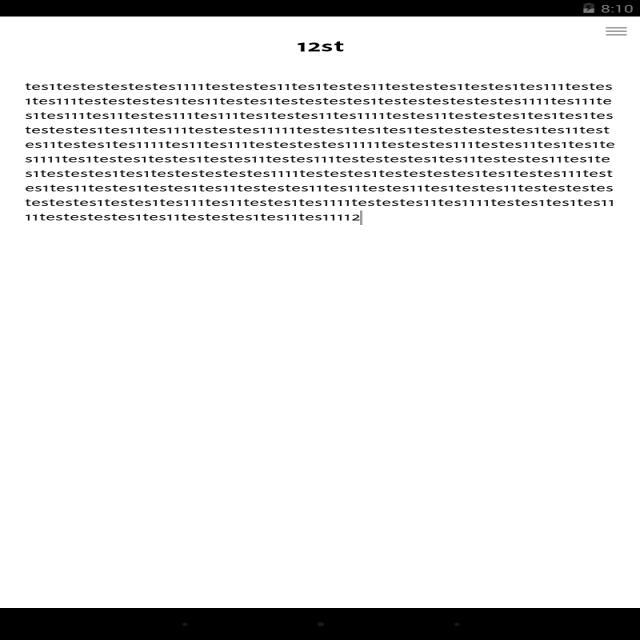ImageButton: (595, 19, 631, 41)
TextView: (286, 36, 359, 54)
